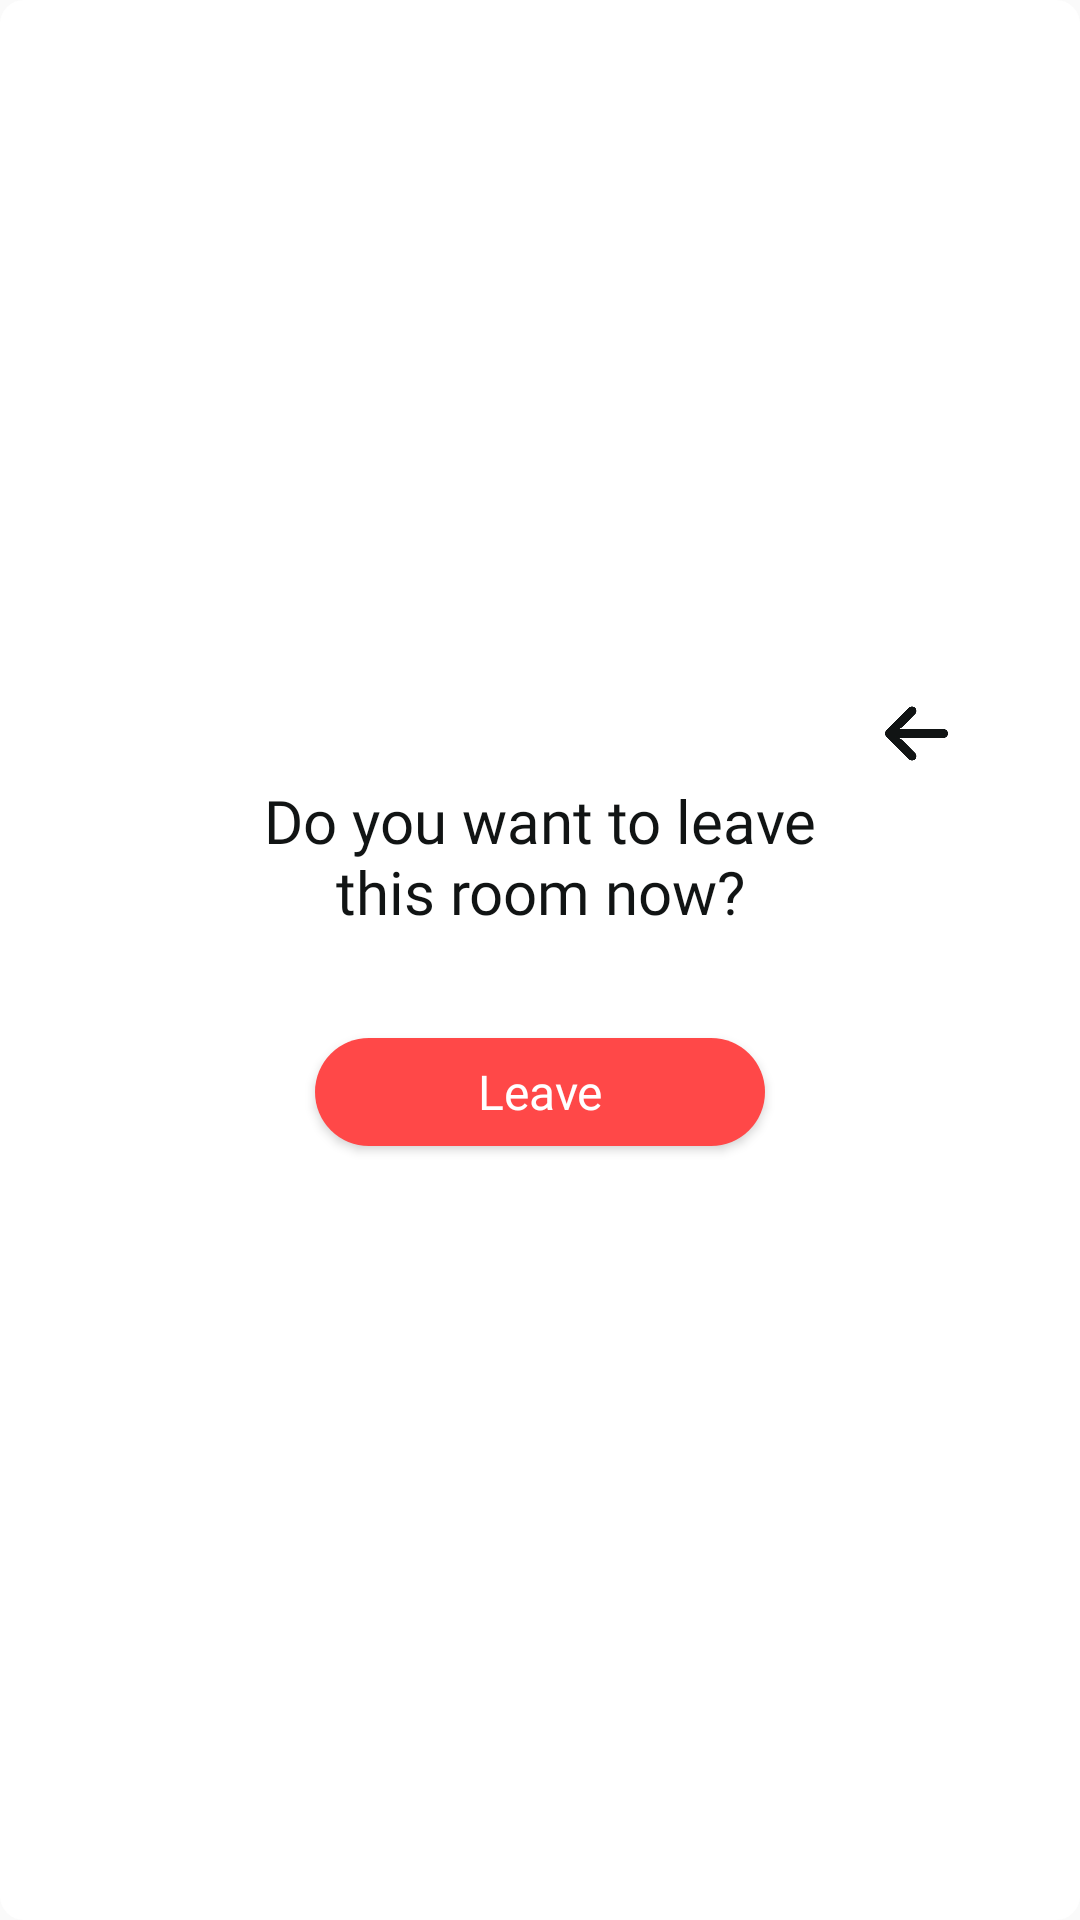

Icons on this 1080 x 1920 Android screen, each with its box as (x1, y1, x2, y2):
back: (885, 706, 948, 761)
